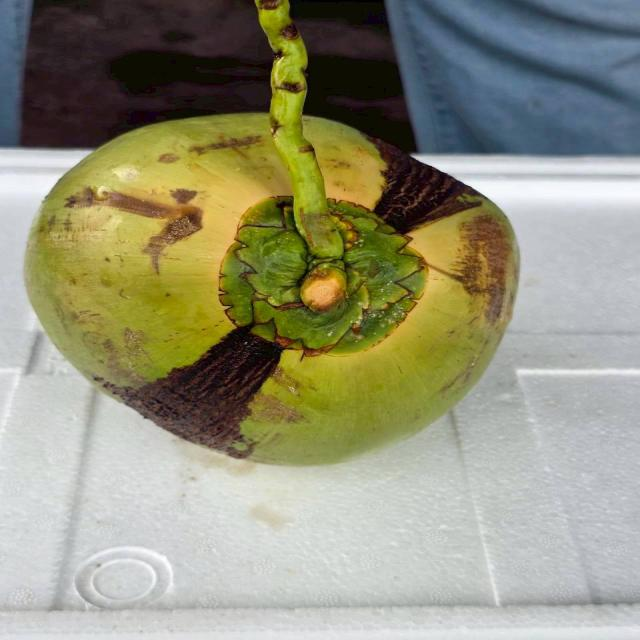coco_1.5: (152, 161, 505, 402)
